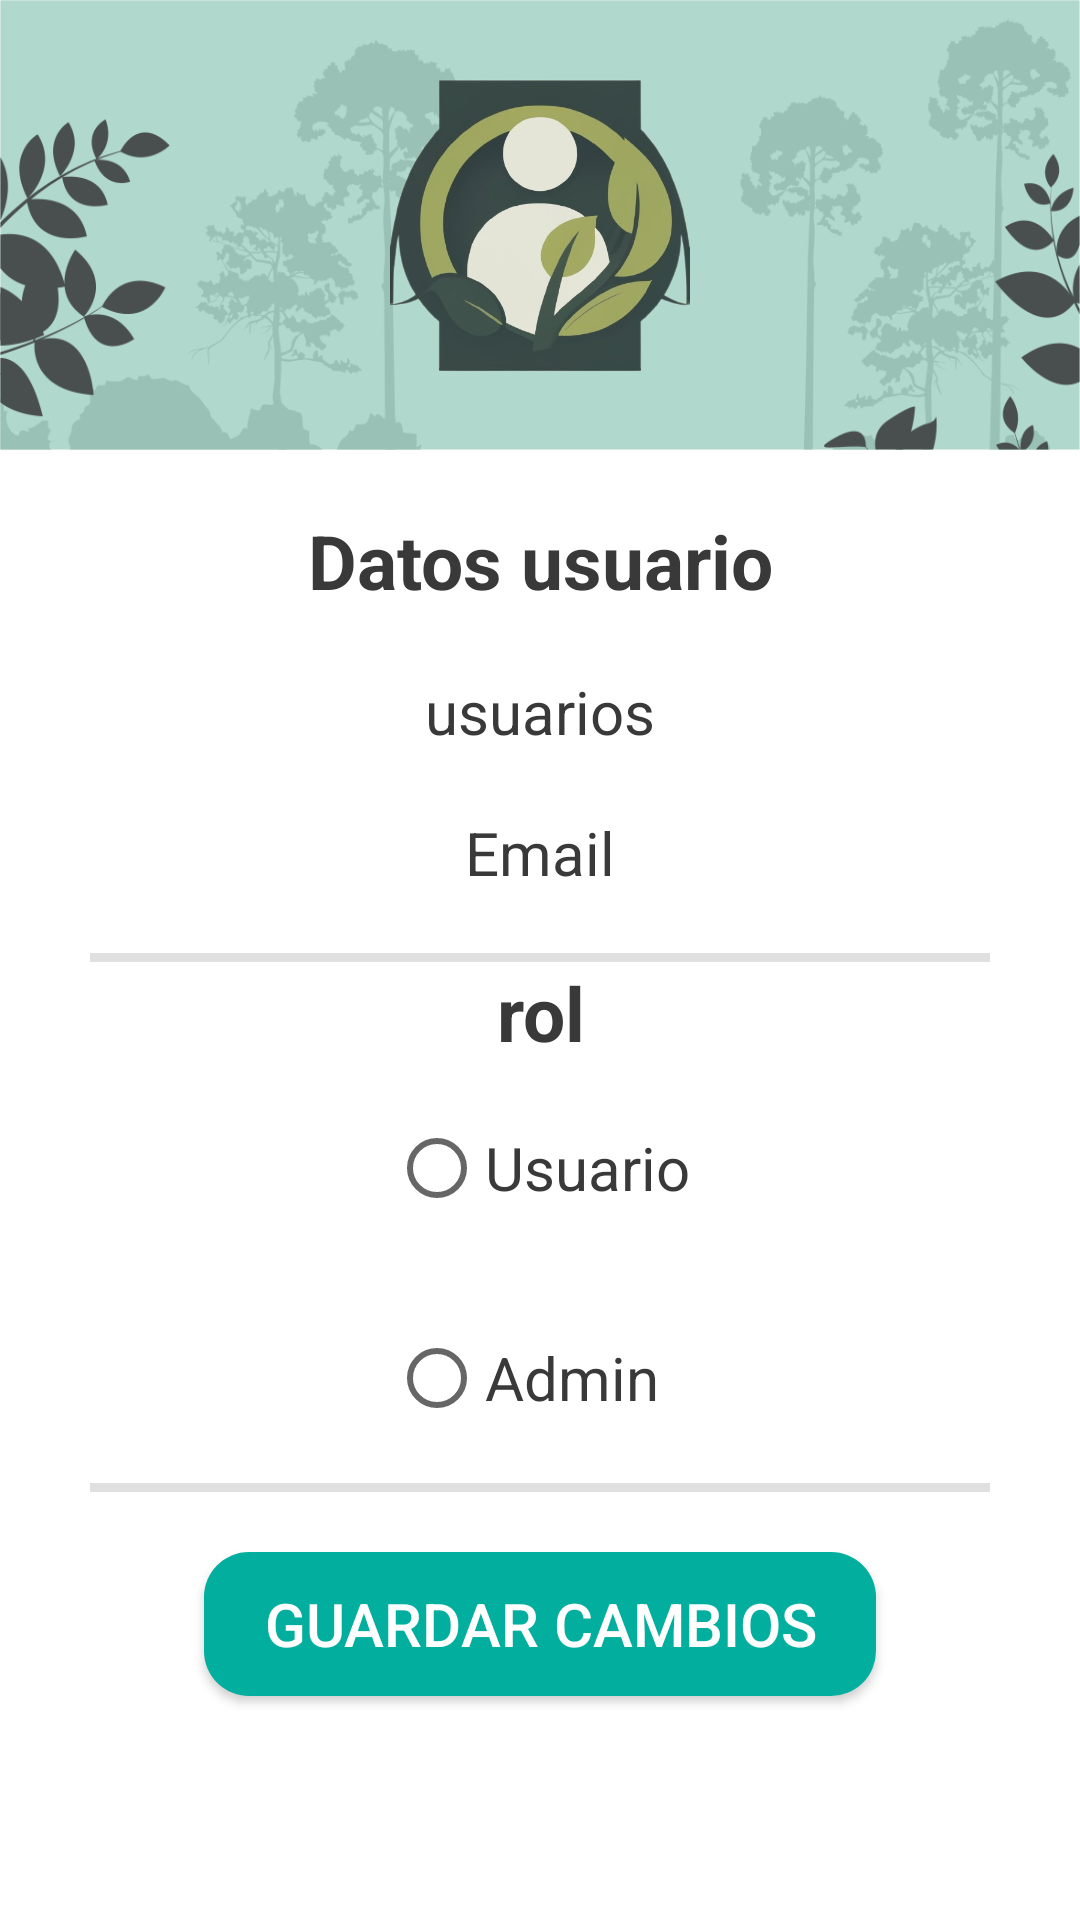

Icon click points for this 1080w x 1920h phone screenshot, format [x,y]:
user: [540,225]
